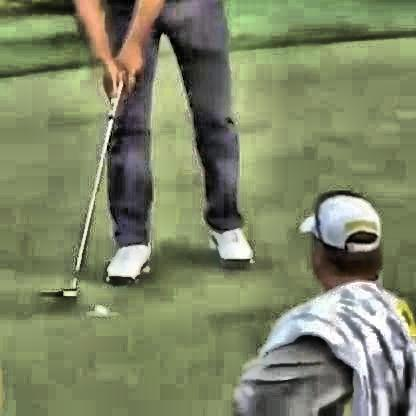golfball: (92, 302, 105, 313)
